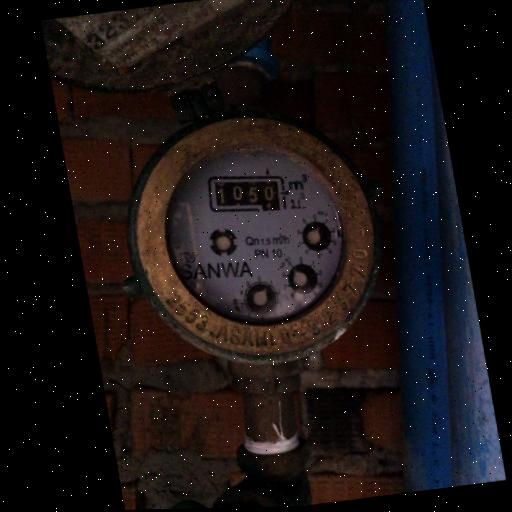0: (259, 180, 281, 212), (227, 179, 248, 207)
1: (211, 181, 231, 207)
5: (242, 179, 263, 207)
border_water_meter_number: (203, 166, 294, 221)
